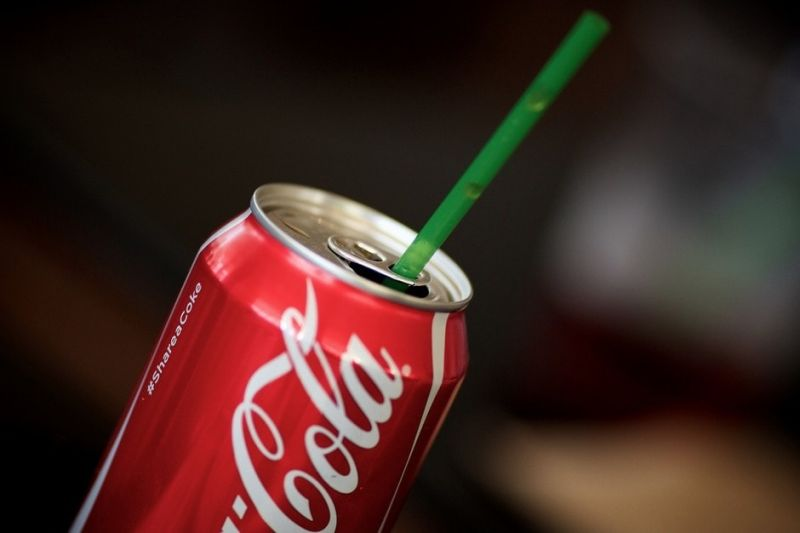coke: (101, 192, 480, 533)
